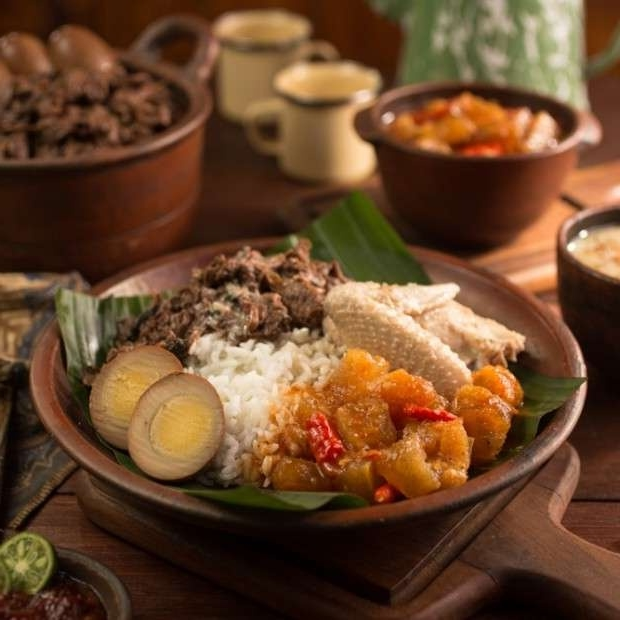gudeg: (90, 245, 525, 501)
